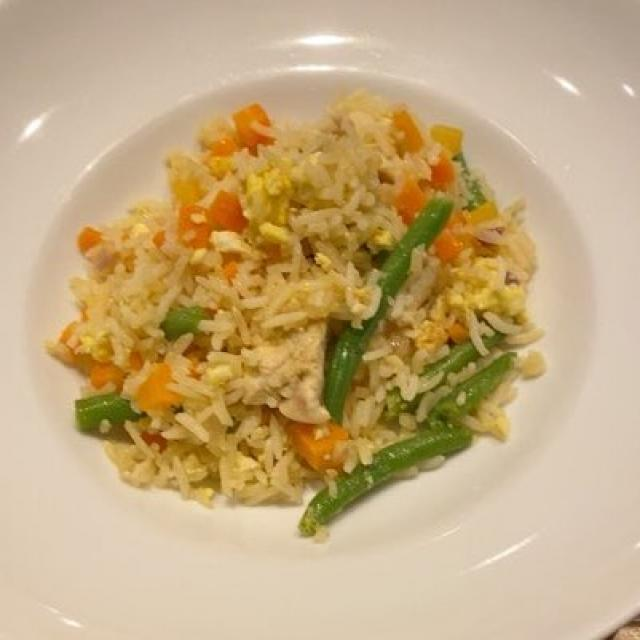rice: (55, 111, 522, 480)
